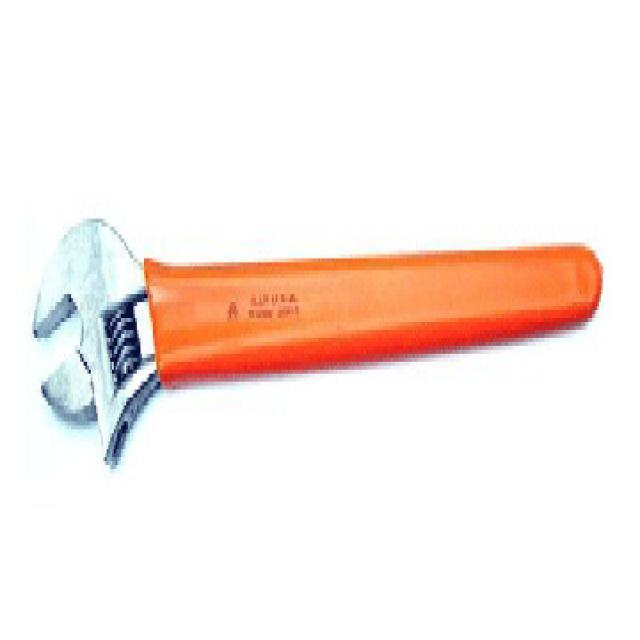wrench: (28, 206, 608, 478)
